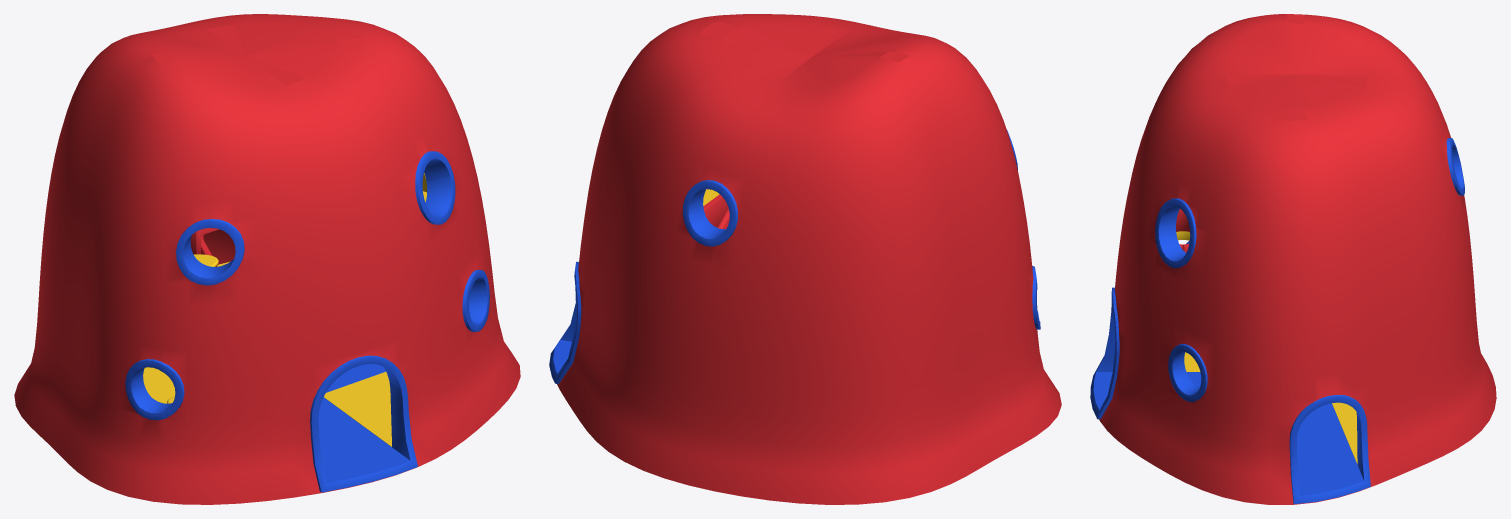
File: adobe_13_twin_shoulder_maison.glb
The picture shows the model from 3 angles, left to right: view 1: azimuth 30°, elevation 25°; view 2: azimuth 150°, elevation 25°; view 3: azimuth 270°, elevation 25°; orthographic projection. The views are drawn at different scales.
Visible parts, largest first — view 1: 13 • Twin-Shoulder Maison, Village return stair side guard; view 2: 13 • Twin-Shoulder Maison; view 3: 13 • Twin-Shoulder Maison.
Boxes of the visible parts, x1,y1,x2,y2 form: 13 • Twin-Shoulder Maison: (14,14,520,504); Village return stair side guard: (203,229,235,264); 13 • Twin-Shoulder Maison: (549,14,1061,504); 13 • Twin-Shoulder Maison: (1090,14,1496,504).
Bounding box in the file's own units: 9.82 × 7.76 × 8.41.
